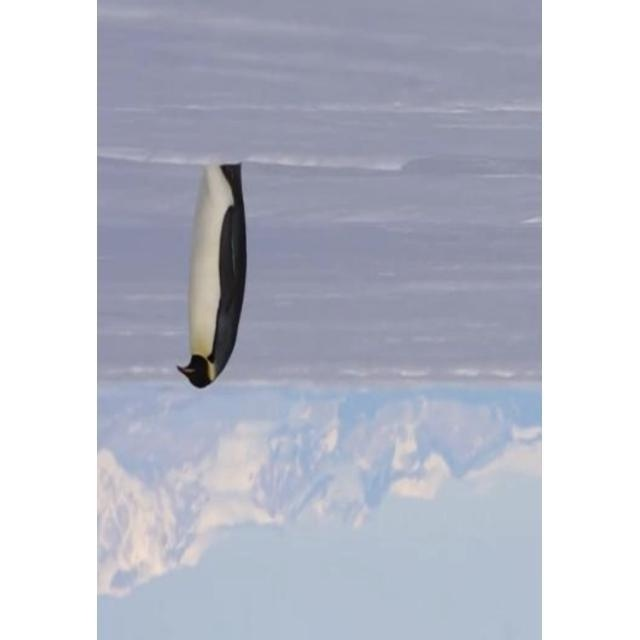penguin: (177, 162, 249, 388)
